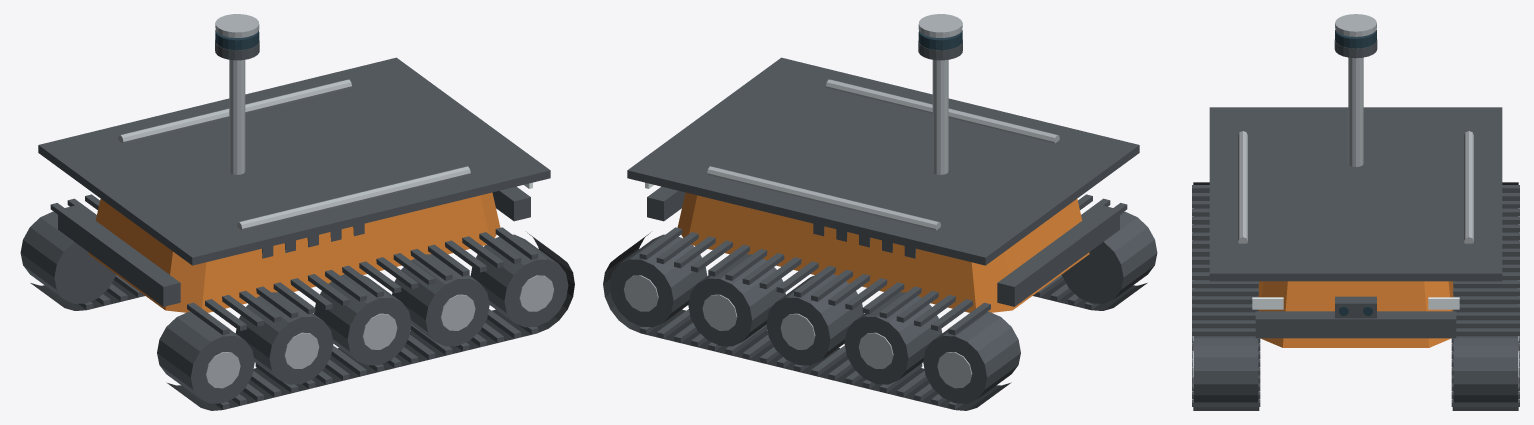
Rendered from bunker.glb.
The picture shows the model from 3 angles, left to right: view 1: azimuth 30°, elevation 25°; view 2: azimuth 150°, elevation 25°; view 3: azimuth 270°, elevation 25°; orthographic projection. The views are drawn at different scales.
Visible parts, largest first — view 1: world; view 2: world; view 3: world.
Boxes of the visible parts, x1=… form: world: x1=20, y1=14, x2=574, y2=410; world: x1=603, y1=14, x2=1157, y2=410; world: x1=1192, y1=14, x2=1519, y2=410.
Size of the model in its own units: 1.02 by 0.752 by 0.783.
